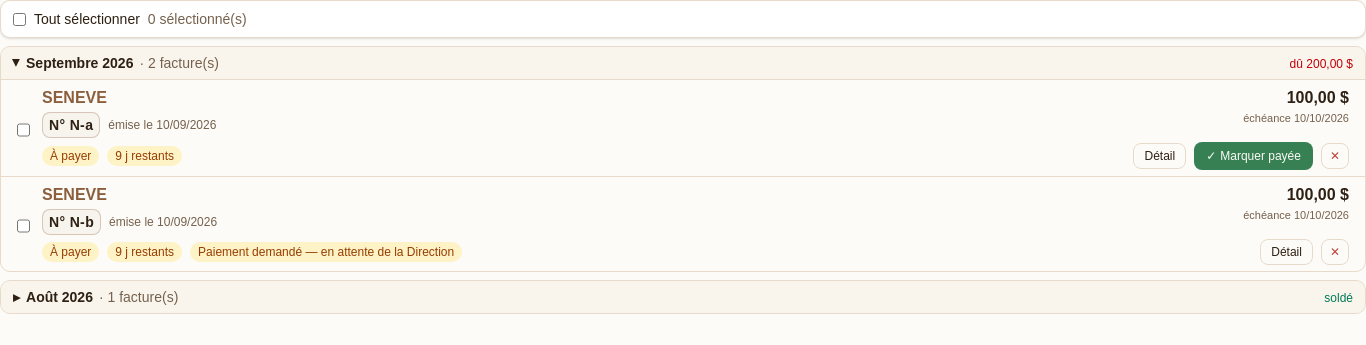
Test: droits de la barre d'actions groupées › Direction : « Marquer payées » et « Supprimer » ; mêmes exclusions
The width and height of the screenshot is (1366, 345).
Click the checkbox labelled "Tout sélectionner".
click(20, 19)  # box [13,12,26,26]
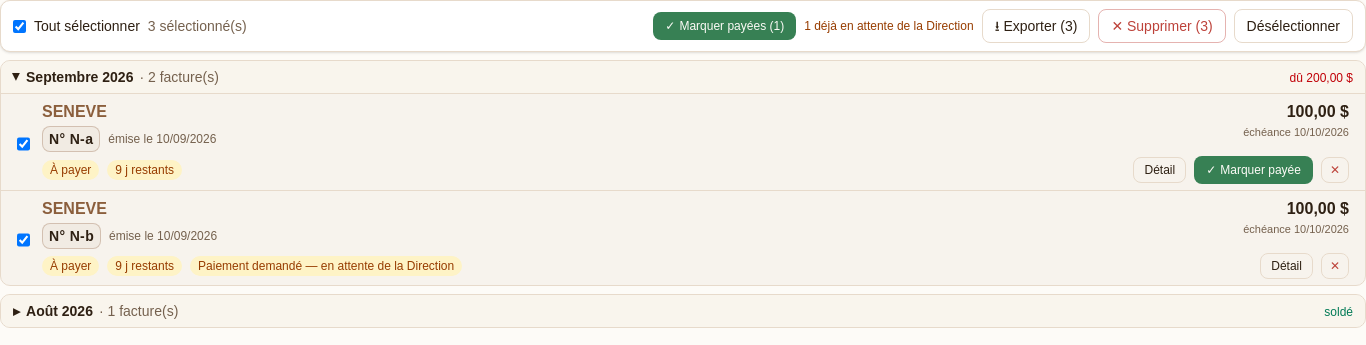
Expected: the button "✓ Marquer payées (1)" is shown, [653,12,796,40]
Expected: the button "✕ Supprimer (3)" is shown, [1098,9,1226,43]
